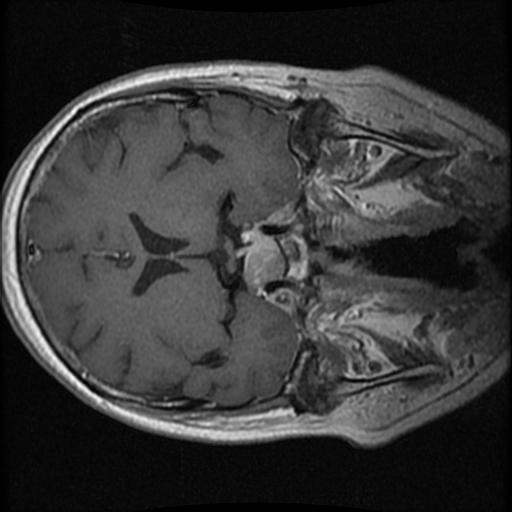pituitary tumour: (235, 225, 286, 295)
